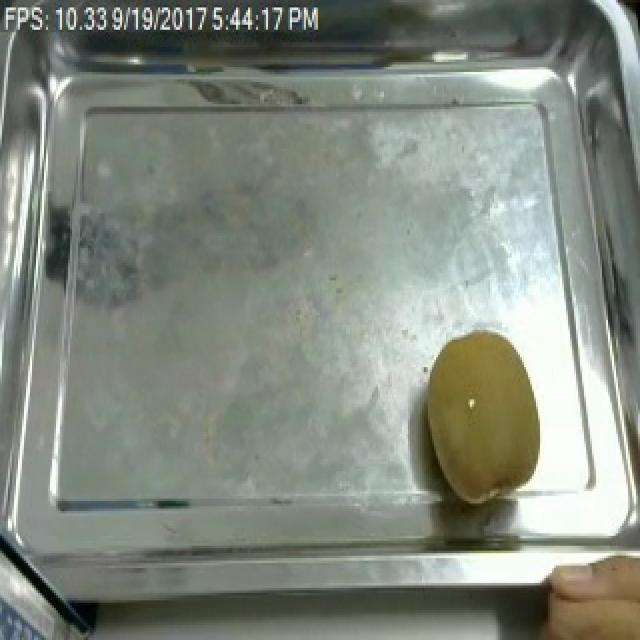Fruit: (412, 322, 552, 511)
